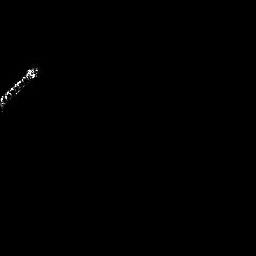ship: (1, 64, 38, 113)
